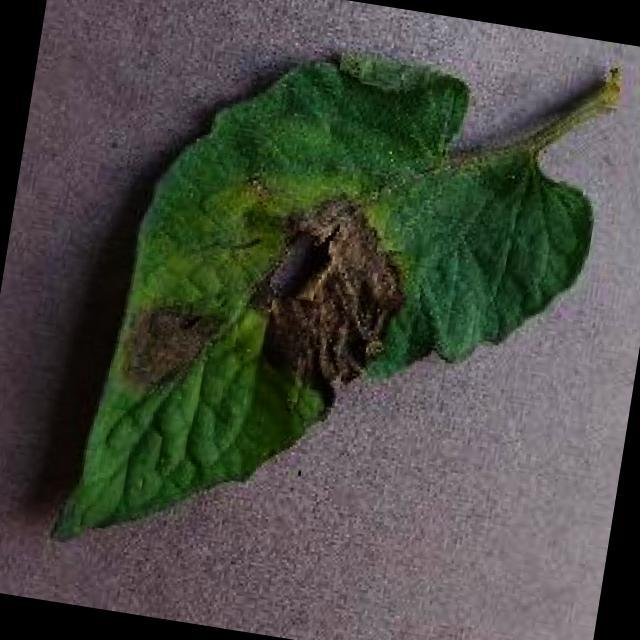Tomato late blight leaf: (47, 16, 616, 624)
